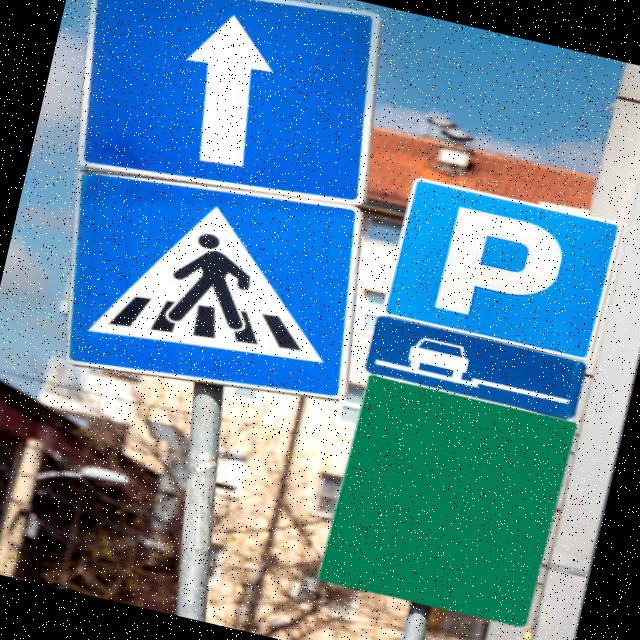crosswalk: (21, 140, 398, 431)
